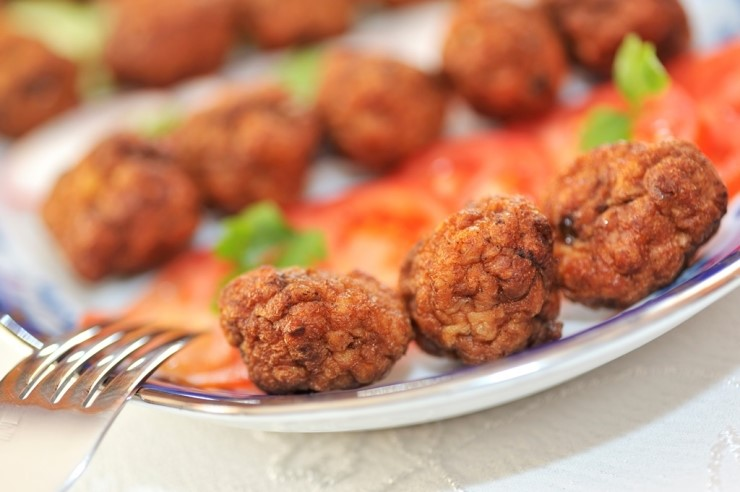meatballs: (534, 133, 717, 321), (398, 199, 563, 367), (227, 267, 413, 396)
